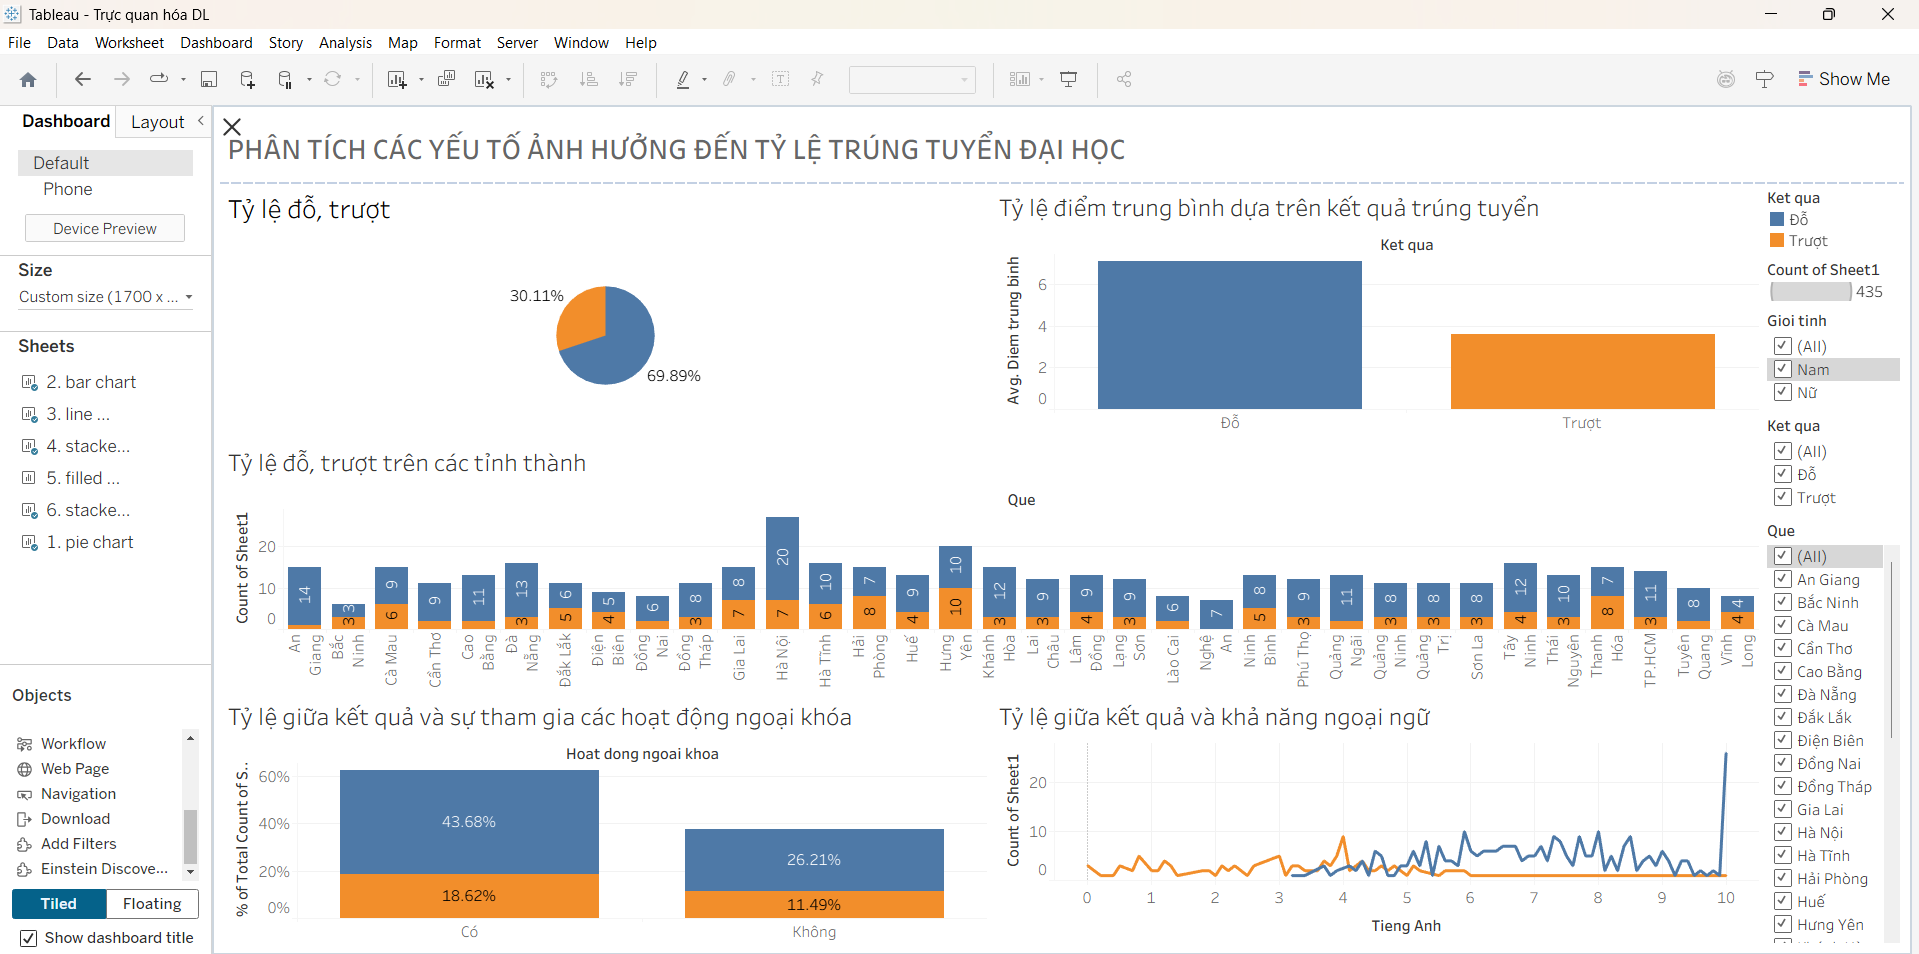

The dashboard page shown, as its layout file describes it:
{"tool":"tableau","page":{"name":"Dashboard 1","canvas":[1700,850],"ordinal":0},"visuals":[{"type":"text","box":[8,8,1684,70.2]},{"type":"dashboard-object","box":[0,8.5,40.8,25.5]},{"type":"worksheet","title":"1. pie chart","mark":"Pie","box":[8,78.2,771.3,254.6]},{"type":"worksheet","title":"2. bar chart","mark":"Automatic","rows":["Diem_trung_binh"],"cols":["Ket_qua"],"box":[779.3,78.2,771.7,254.6]},{"type":"legend","title":"1. pie chart","param":"[federated.0qda1aa04g2cfw1g49x2u0ya202t].[none:Ket_qua:nk]","box":[1551,78.2,141,72]},{"type":"legend","title":"1. pie chart","param":"[federated.0qda1aa04g2cfw1g49x2u0ya202t].[__tableau_internal_object_id__].[cnt:S","box":[1551,150.2,141,51]},{"type":"filter","title":"1. pie chart","param":"[federated.0qda1aa04g2cfw1g49x2u0ya202t].[none:Gioi_tinh:nk]","box":[1551,201.2,141,105]},{"type":"filter","title":"1. pie chart","param":"[federated.0qda1aa04g2cfw1g49x2u0ya202t].[none:Ket_qua:nk]","box":[1551,306.2,141,105]},{"type":"worksheet","title":"6. stacked bar chart","mark":"Automatic","rows":["Sheet1_DACE55D6AB864BB29CD5F6039A0039AF"],"cols":["Que"],"box":[8,332.8,1543,254.6]},{"type":"filter","title":"1. pie chart","param":"[federated.0qda1aa04g2cfw1g49x2u0ya202t].[none:Que:nk]","box":[1551,411.2,141,430.8]},{"type":"worksheet","title":"4. stacked bar chart","mark":"Automatic","rows":["Sheet1_DACE55D6AB864BB29CD5F6039A0039AF"],"cols":["Hoat_dong_ngoai_khoa"],"box":[8,587.4,771.3,254.6]},{"type":"worksheet","title":"3. line chart","mark":"Automatic","rows":["Sheet1_DACE55D6AB864BB29CD5F6039A0039AF"],"cols":["Tieng_Anh"],"box":[779.3,587.4,771.7,254.6]}]}

Visuals, with their boxes on the page's 1700x850 design canvas (x1, y1, x2, y2). These are canvas units, not pixel positions in the 1919x954 screenshot, which may show the page scaled, cropped or inside an application window:
text: 8 8 1692 78
dashboard-object: 0 8 41 34
"1. pie chart" worksheet (Pie marks): 8 78 779 333
"2. bar chart" worksheet: 779 78 1551 333
"1. pie chart" legend: 1551 78 1692 150
"1. pie chart" legend: 1551 150 1692 201
"1. pie chart" filter: 1551 201 1692 306
"1. pie chart" filter: 1551 306 1692 411
"6. stacked bar chart" worksheet: 8 333 1551 587
"1. pie chart" filter: 1551 411 1692 842
"4. stacked bar chart" worksheet: 8 587 779 842
"3. line chart" worksheet: 779 587 1551 842
